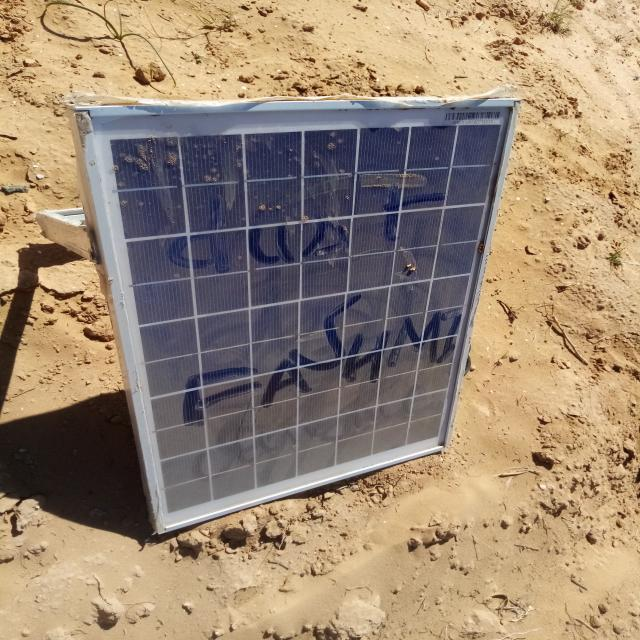faulty: (84, 104, 516, 532)
